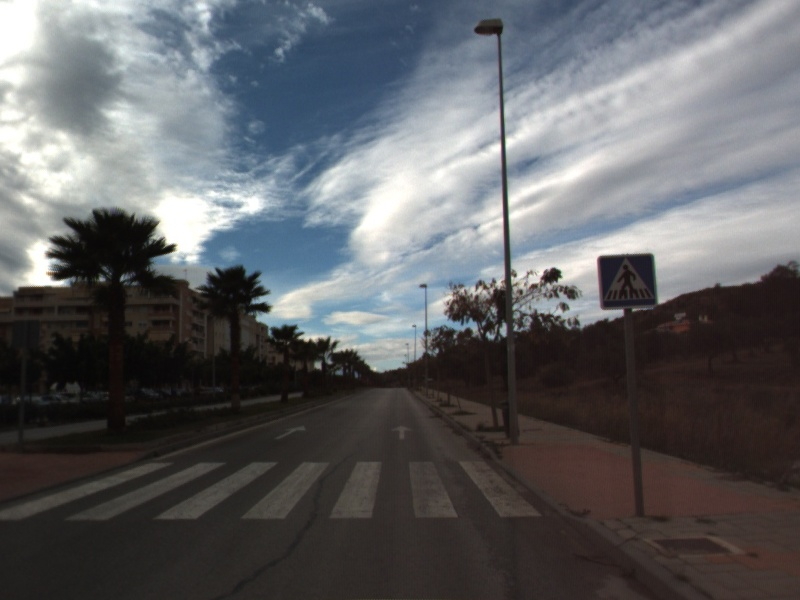STRAIGHT: (272, 423, 307, 441), (390, 423, 415, 441)
